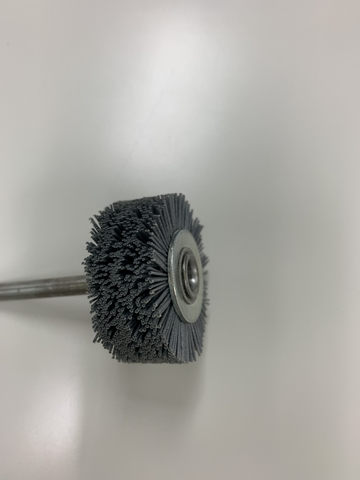Wheel Brush: (1, 196, 206, 369), (1, 202, 213, 365)
